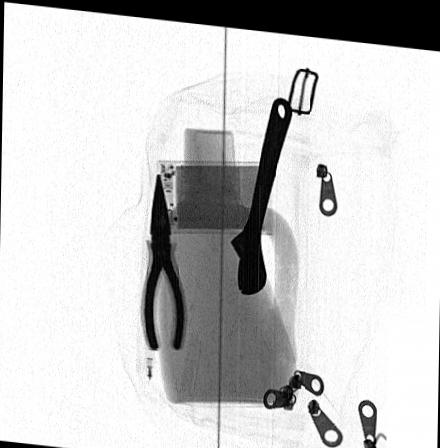Pliers: (143, 168, 184, 347)
Powerbank: (156, 156, 273, 230)
Wrench: (229, 89, 292, 289)
